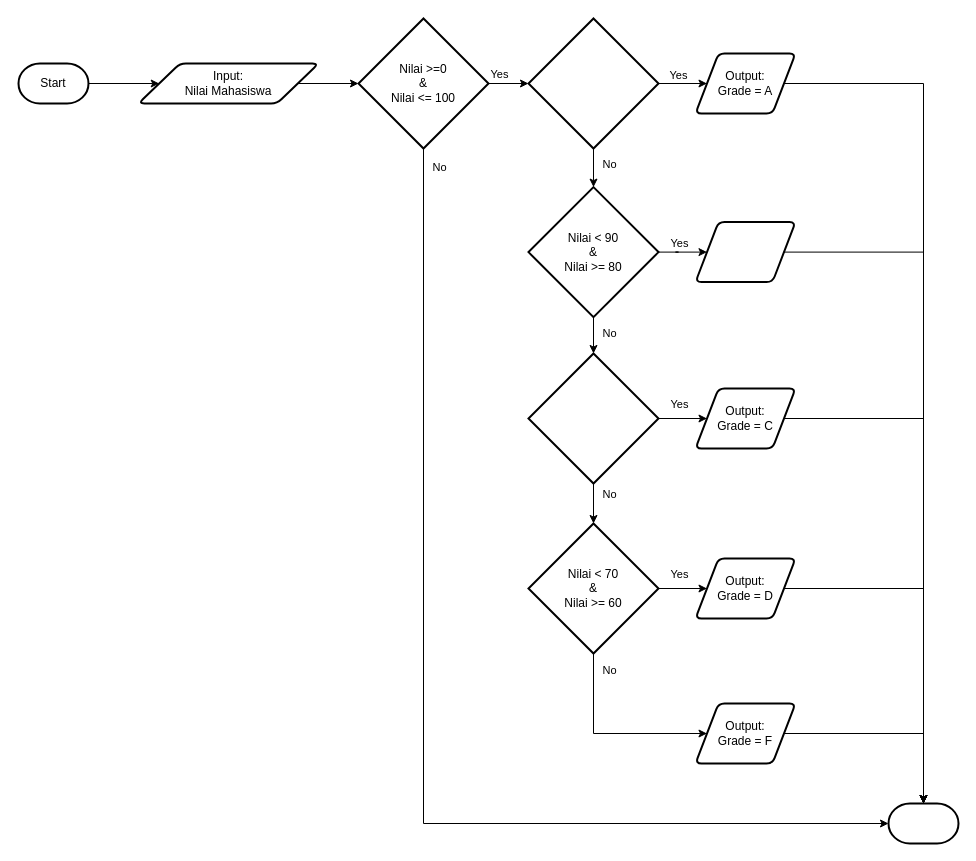
Image size: 976x861. Some labels were removed from this diagram. Each missing label, with the box of its shape:
End: (887, 802, 959, 844)
Nilai < 80 & Nilai >= 70: (527, 352, 659, 484)
Nilai >= 90: (527, 17, 659, 149)
Output: Grade = B: (694, 221, 796, 283)
